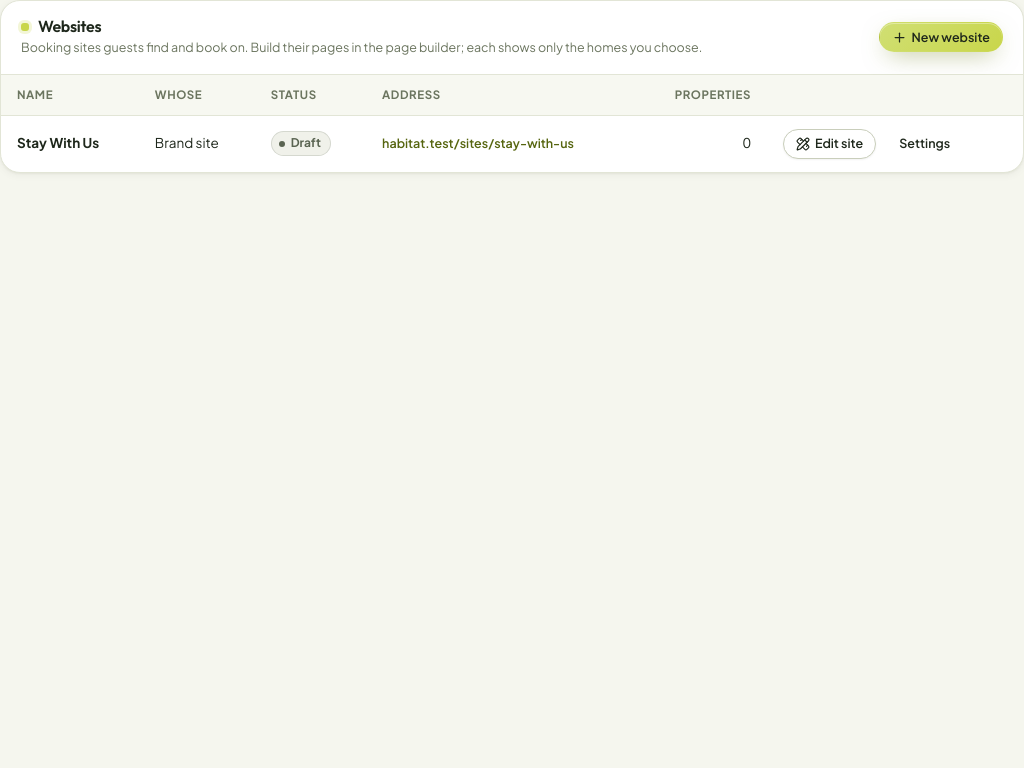
Test: booking websites › shows what the site still needs before it takes bookings online
This screenshot has width=1024, height=768.
Click the button with aria-label "Settings for Stay With Us".
click(925, 144)  # box [886,129,963,159]
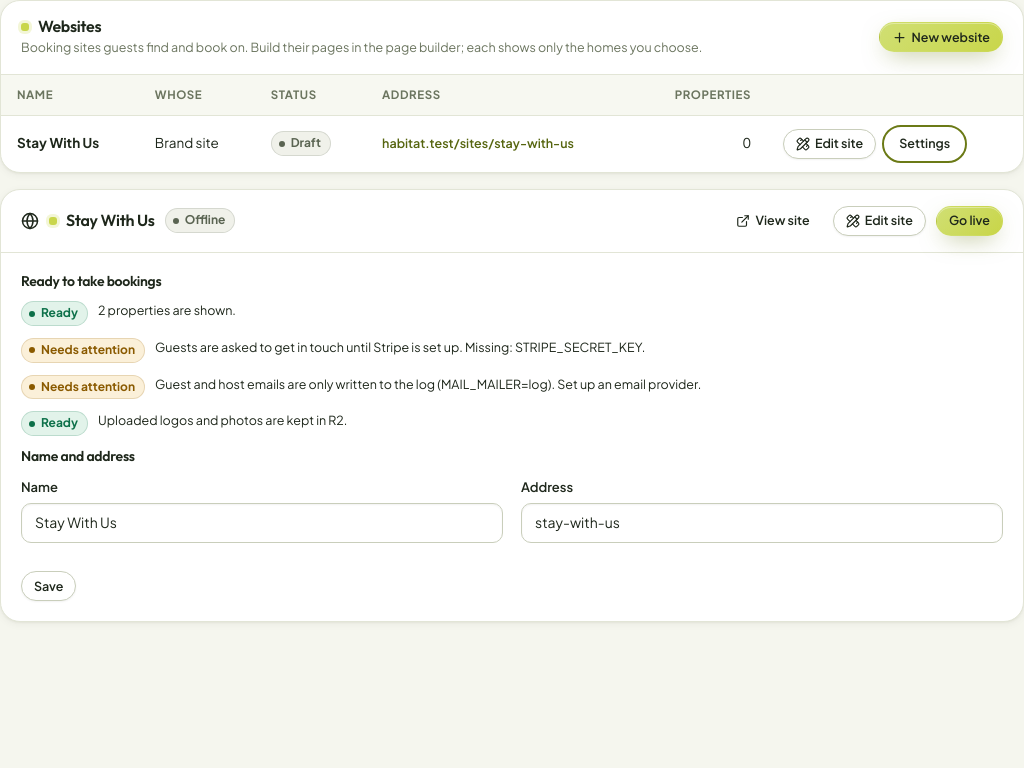
Expected: the number of list items is 4, [21,302,236,326]; [21,338,645,363]; [21,375,701,399]; [21,411,347,436]
Expected: the text "Missing: STRIPE_SECRET_KEY" is shown, [155,339,645,355]
Expected: the text "Needs attention" is shown 2 times, [21,338,145,363]; [21,375,145,399]
